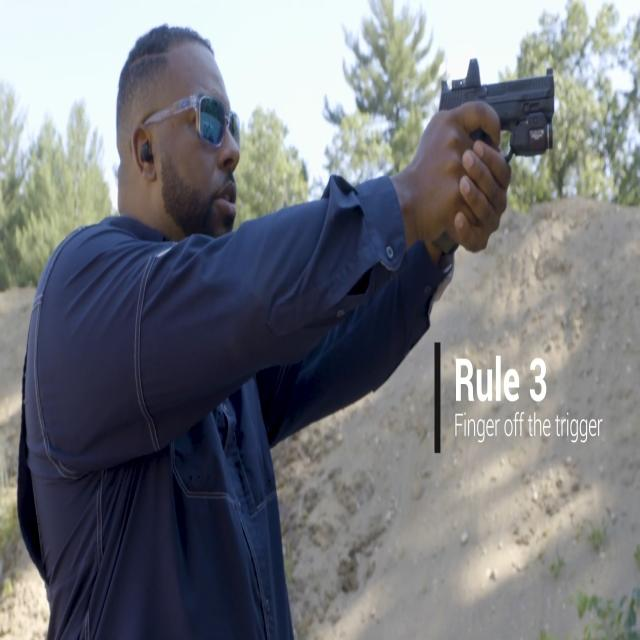Gun_Holder: (428, 51, 577, 240)
Person: (12, 27, 476, 615)
